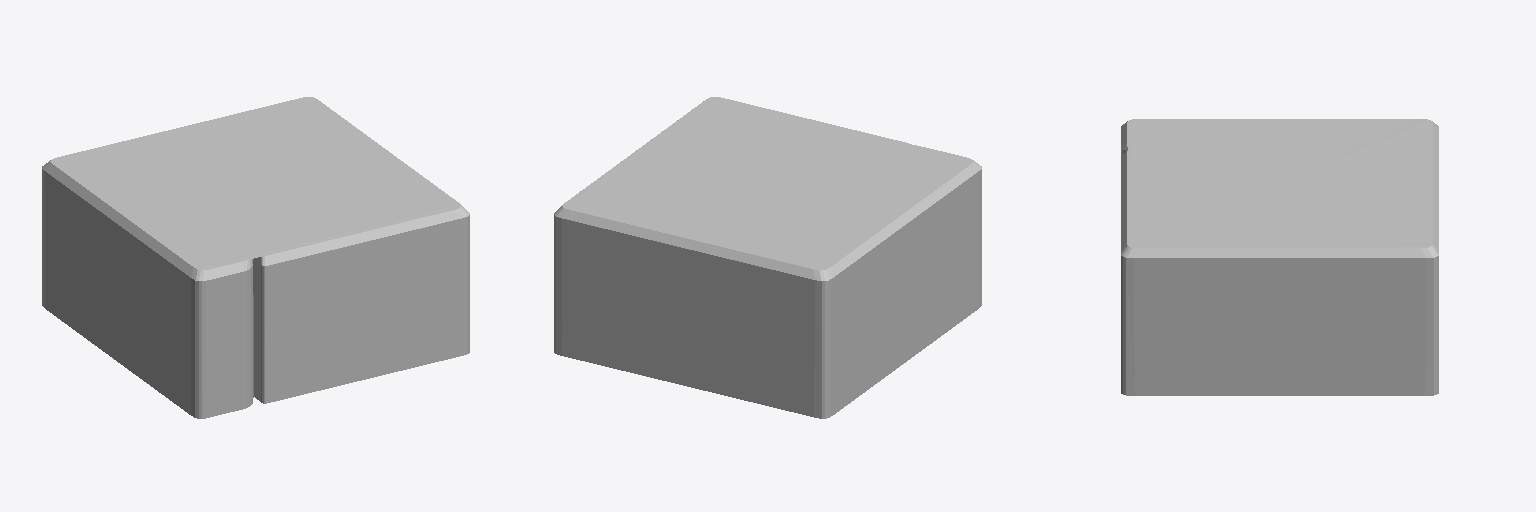
Rendered from sand_stone_tile.obj.
3 views of the same model, side by side, from view 1: azimuth 30°, elevation 25°; view 2: azimuth 150°, elevation 25°; view 3: azimuth 270°, elevation 25° (orthographic).
Visible parts, largest first — view 1: TileMesh; view 2: TileMesh; view 3: TileMesh.
Part boxes in pixels (x1,y1,x2,y2): TileMesh: (42, 97, 469, 418); TileMesh: (554, 97, 981, 418); TileMesh: (1121, 119, 1438, 395).
Size of the model in its own units: 1.01 by 0.5069 by 1.01.